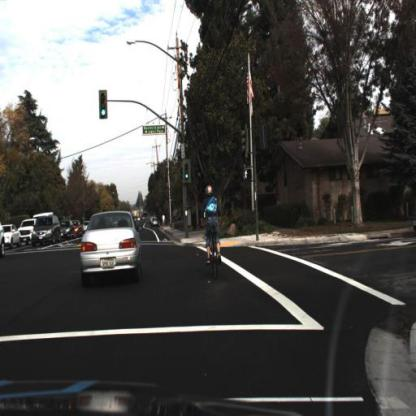biker: (185, 163, 229, 314), (201, 188, 224, 284)
car: (80, 210, 144, 282), (32, 214, 60, 250), (18, 218, 42, 246), (1, 224, 24, 251), (58, 218, 76, 240)
pedestrian: (168, 204, 178, 240), (161, 211, 169, 232)
trafficLight: (183, 161, 191, 184)
trafficLight-Green: (99, 90, 109, 122)
